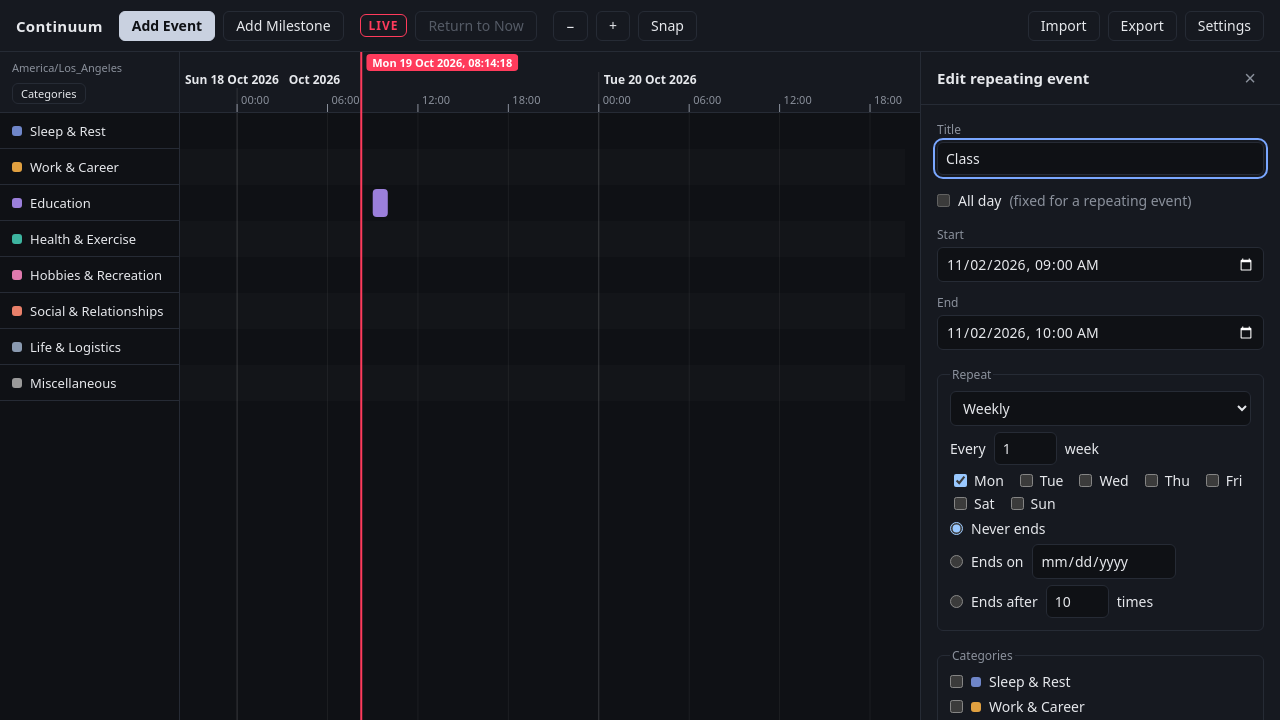
Test: recurring events (§5.6, D13) › hides 'This occurrence' once the repeat rule is changed
Click the checkbox labelled "Wed".
click(1086, 480)  # box [1080,474,1092,487]
(page scrolled)
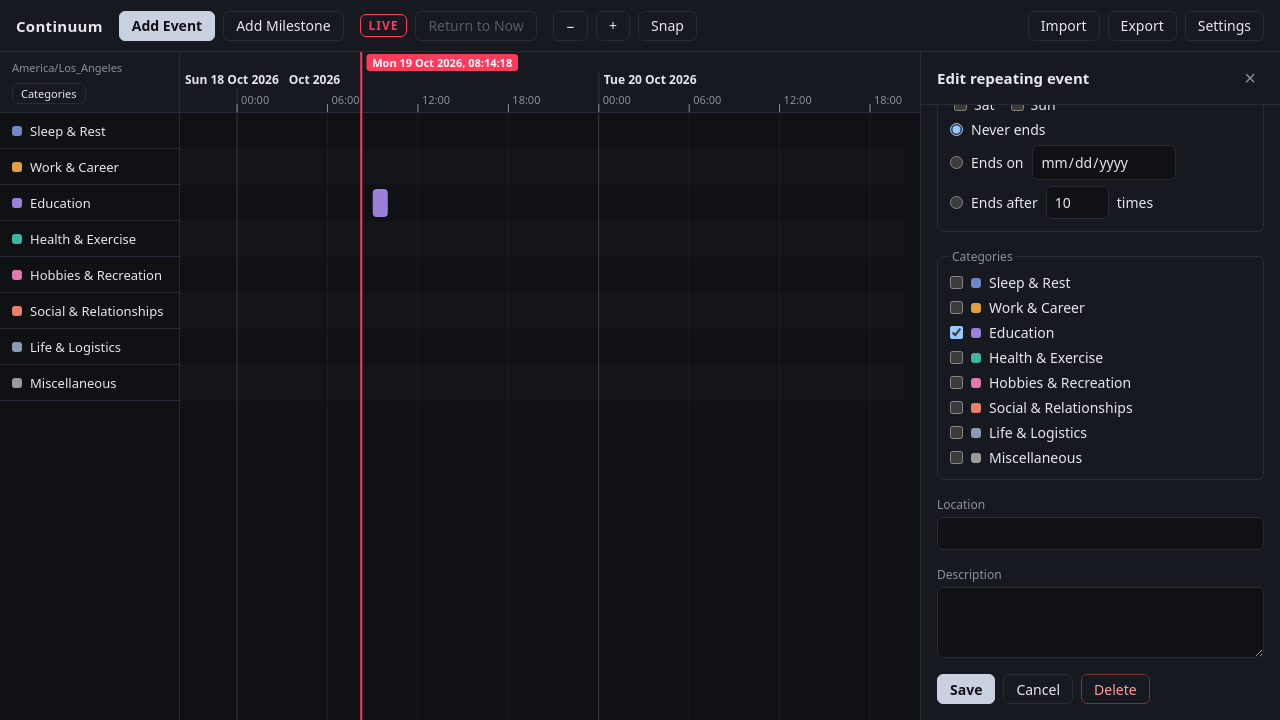
Click the button "Save".
click(966, 689)  # box [937,674,995,704]
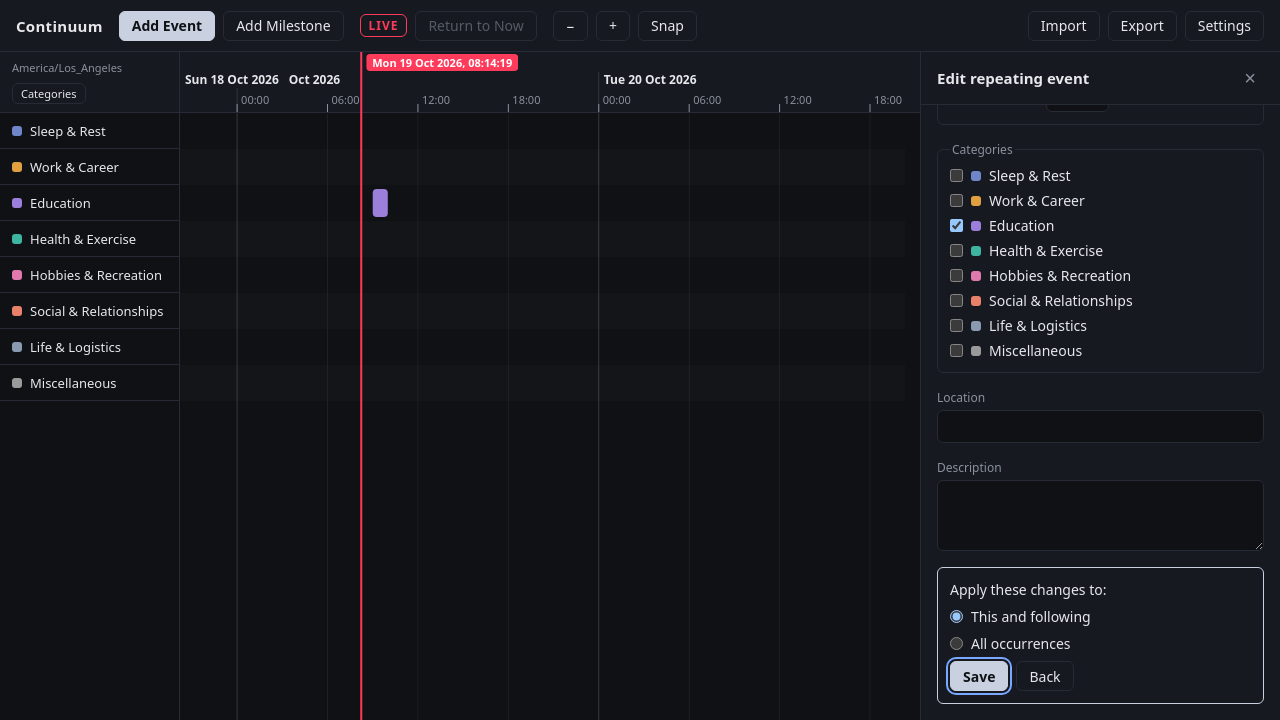
Check: the radio button labelled "This and following" is shown, box [950,610,963,623]
